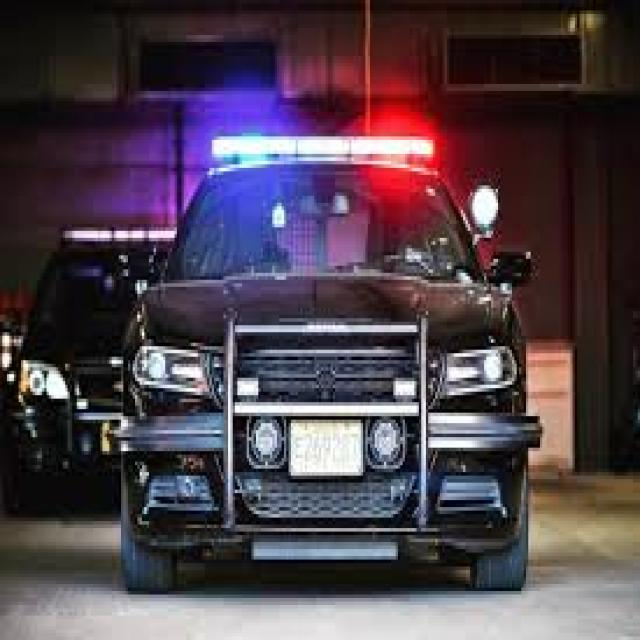cop: (120, 132, 538, 596)
